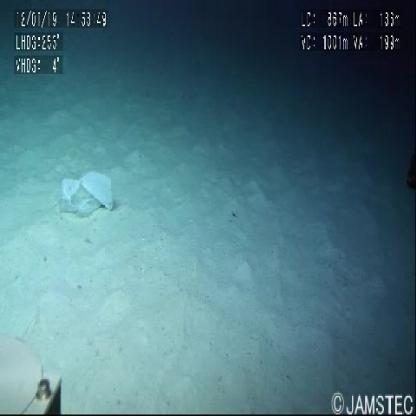Rác: (52, 160, 128, 224)
